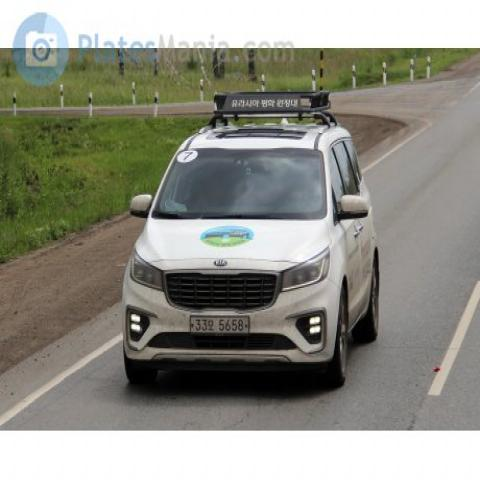LP: (187, 309, 255, 339)
